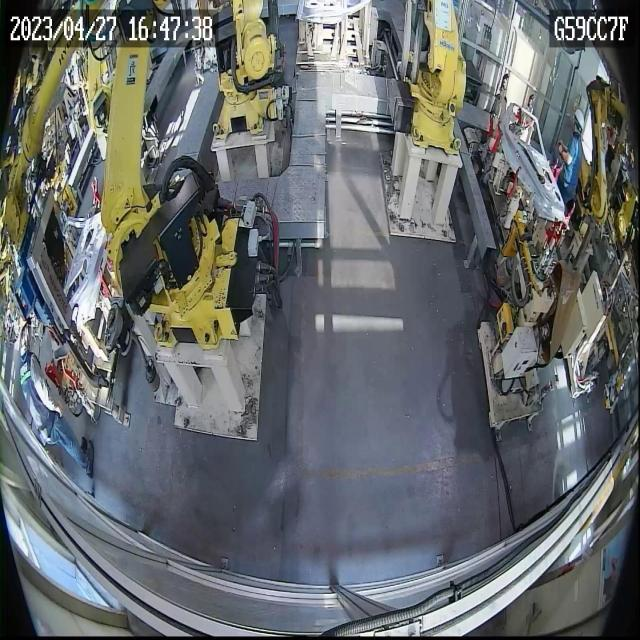Person: (19, 316, 91, 477), (556, 108, 584, 236), (85, 439, 94, 478)
